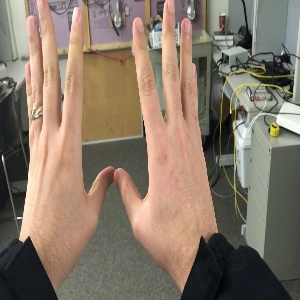hand: (115, 1, 220, 256), (21, 1, 114, 257)
